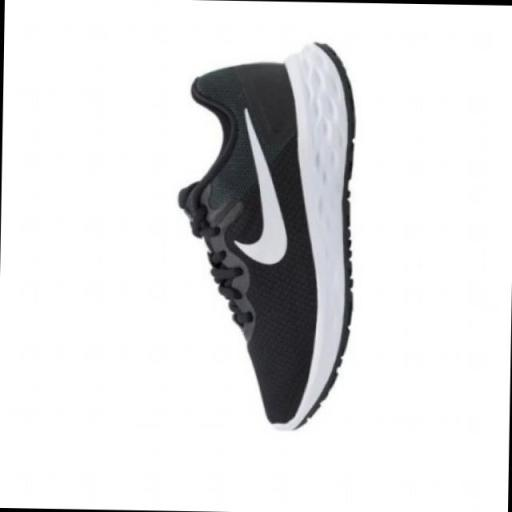Nike: (224, 98, 297, 274)
